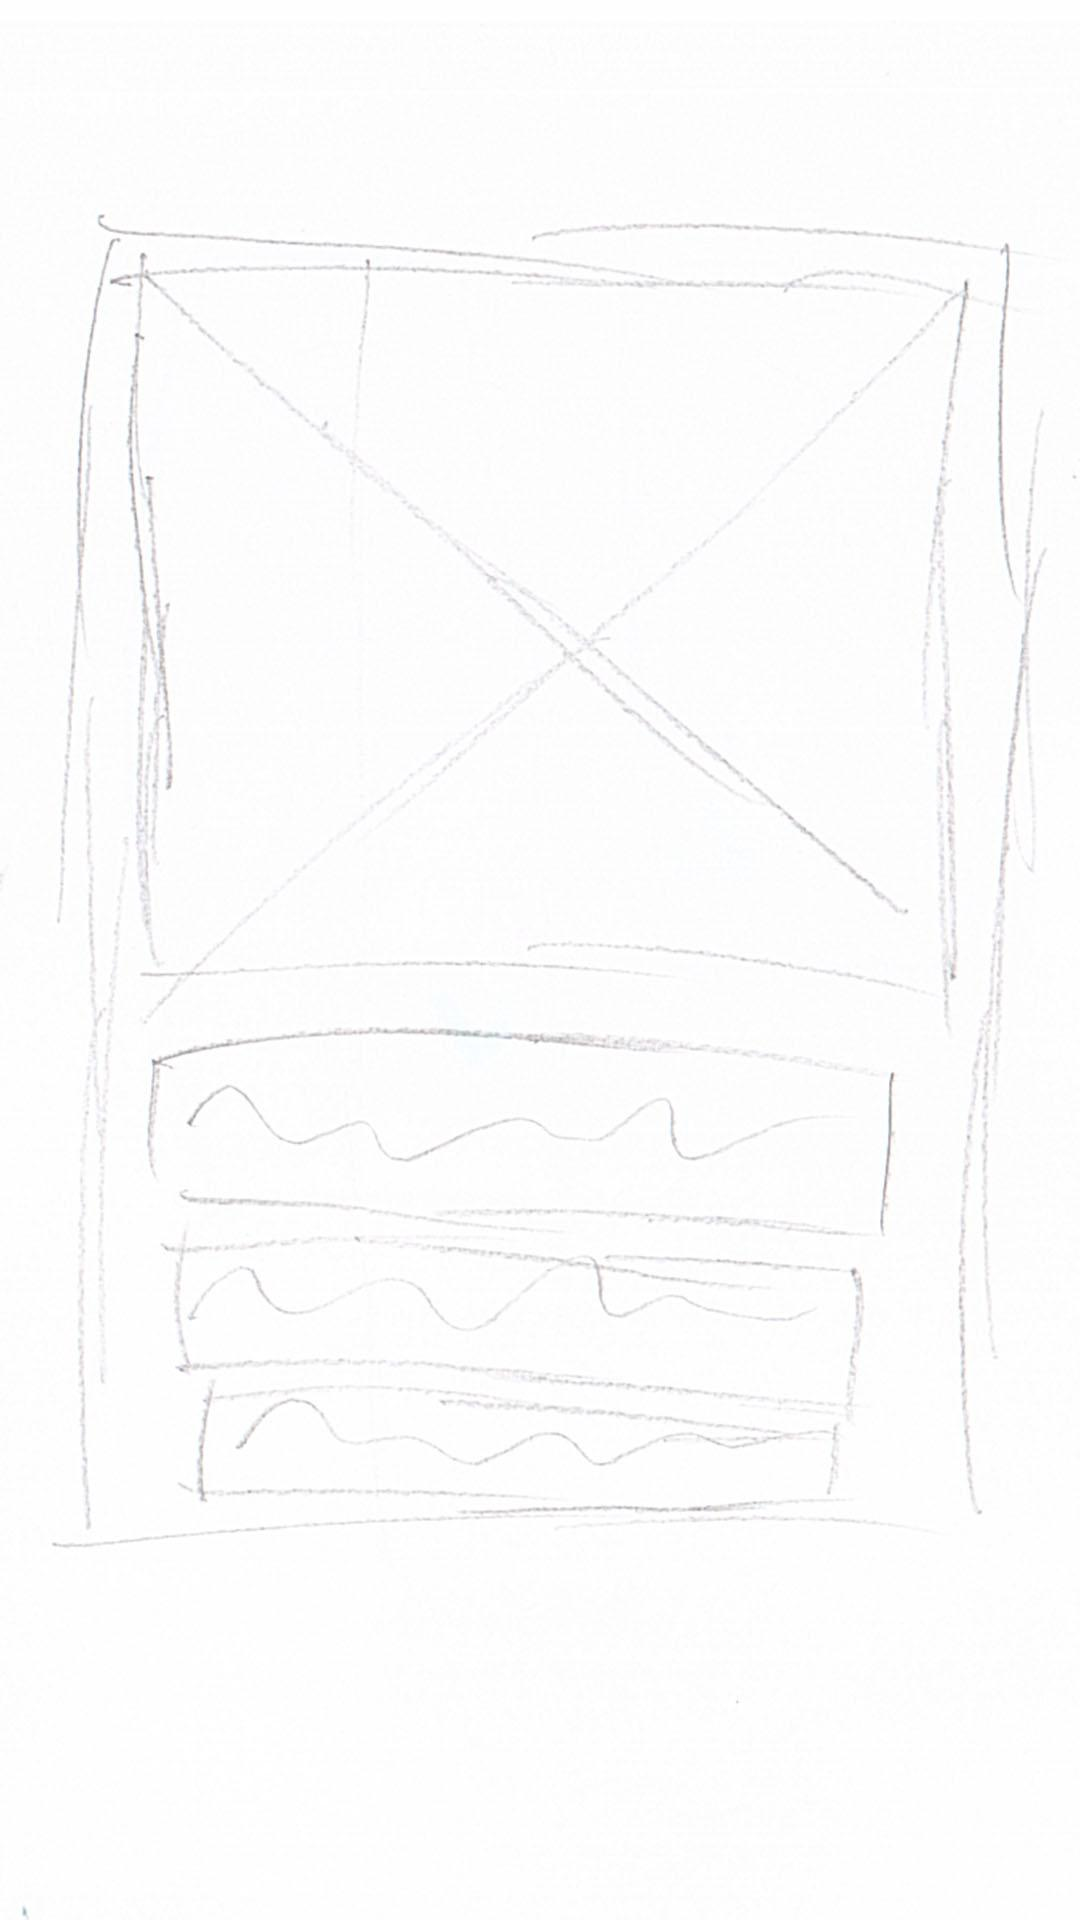Button: (153, 1035, 898, 1236), (179, 1245, 862, 1411), (204, 1386, 845, 1509)
Image: (133, 272, 968, 996)
Screen: (83, 228, 1021, 1547)
